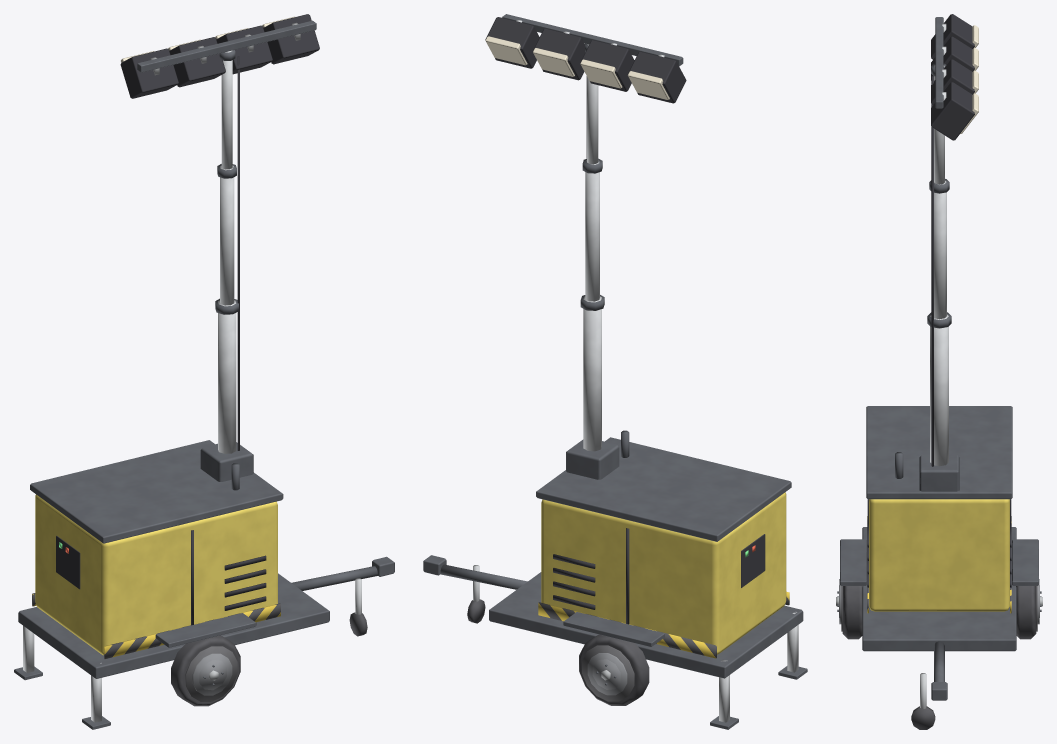
Rendered from Obras_LightTower.fbx.
The picture shows the model from 3 angles, left to right: view 1: azimuth 30°, elevation 25°; view 2: azimuth 150°, elevation 25°; view 3: azimuth 270°, elevation 25°; orthographic projection.
Parts seen in each view (by area): view 1: Obras_LightTower; view 2: Obras_LightTower; view 3: Obras_LightTower.
Boxes of the visible parts, box(x1,y1,x2,y2) form: Obras_LightTower: box(14, 14, 394, 729); Obras_LightTower: box(423, 14, 807, 729); Obras_LightTower: box(836, 14, 1042, 729).
Bounding box in the file's own units: 2.88 × 5.03 × 1.54.
Materials: 1 (1 with a texture image).
